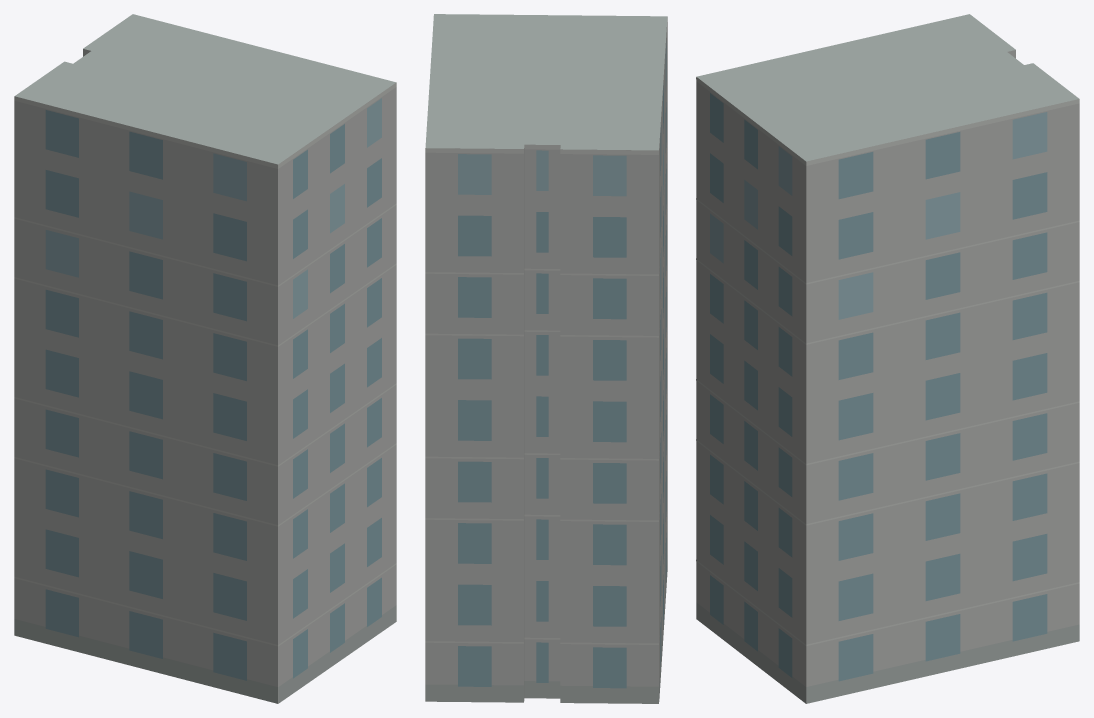
Rendered from survey-upis-32789621.glb.
The picture shows the model from 3 angles, left to right: view 1: azimuth 30°, elevation 25°; view 2: azimuth 150°, elevation 25°; view 3: azimuth 270°, elevation 25°; orthographic projection. The views are drawn at different scales.
Visible parts, largest first — view 1: survey-upis-32789621.tmp; view 2: survey-upis-32789621.tmp; view 3: survey-upis-32789621.tmp.
Part boxes in pixels (x1,y1,x2,y2): survey-upis-32789621.tmp: (14, 14, 396, 703); survey-upis-32789621.tmp: (425, 14, 667, 703); survey-upis-32789621.tmp: (696, 14, 1079, 703).
Bounding box in the file's own units: 17.18 × 29.4 × 18.85.
